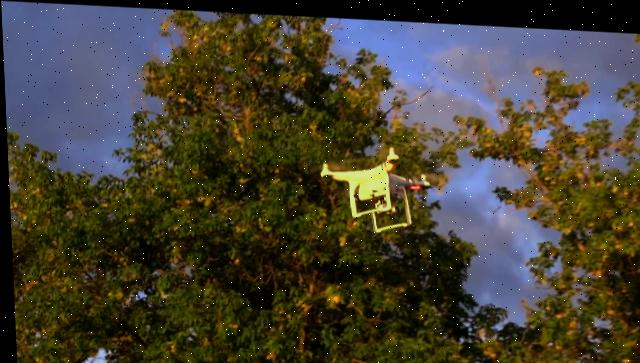drone: (312, 137, 432, 233)
